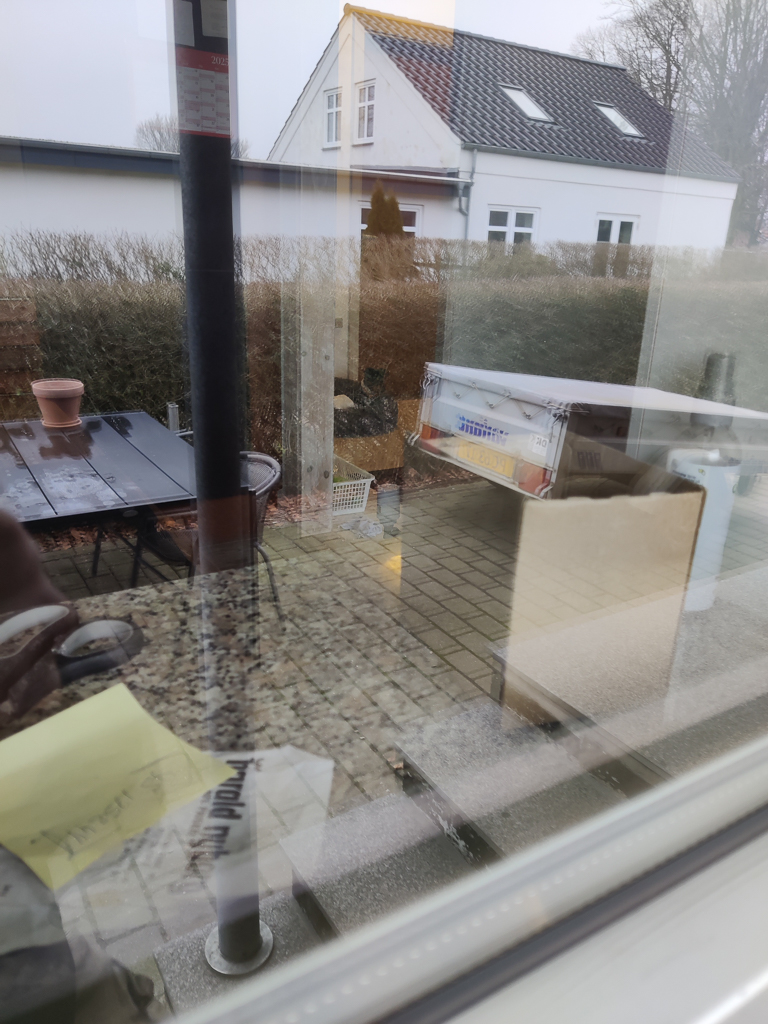Dog: (329, 363, 393, 416)
